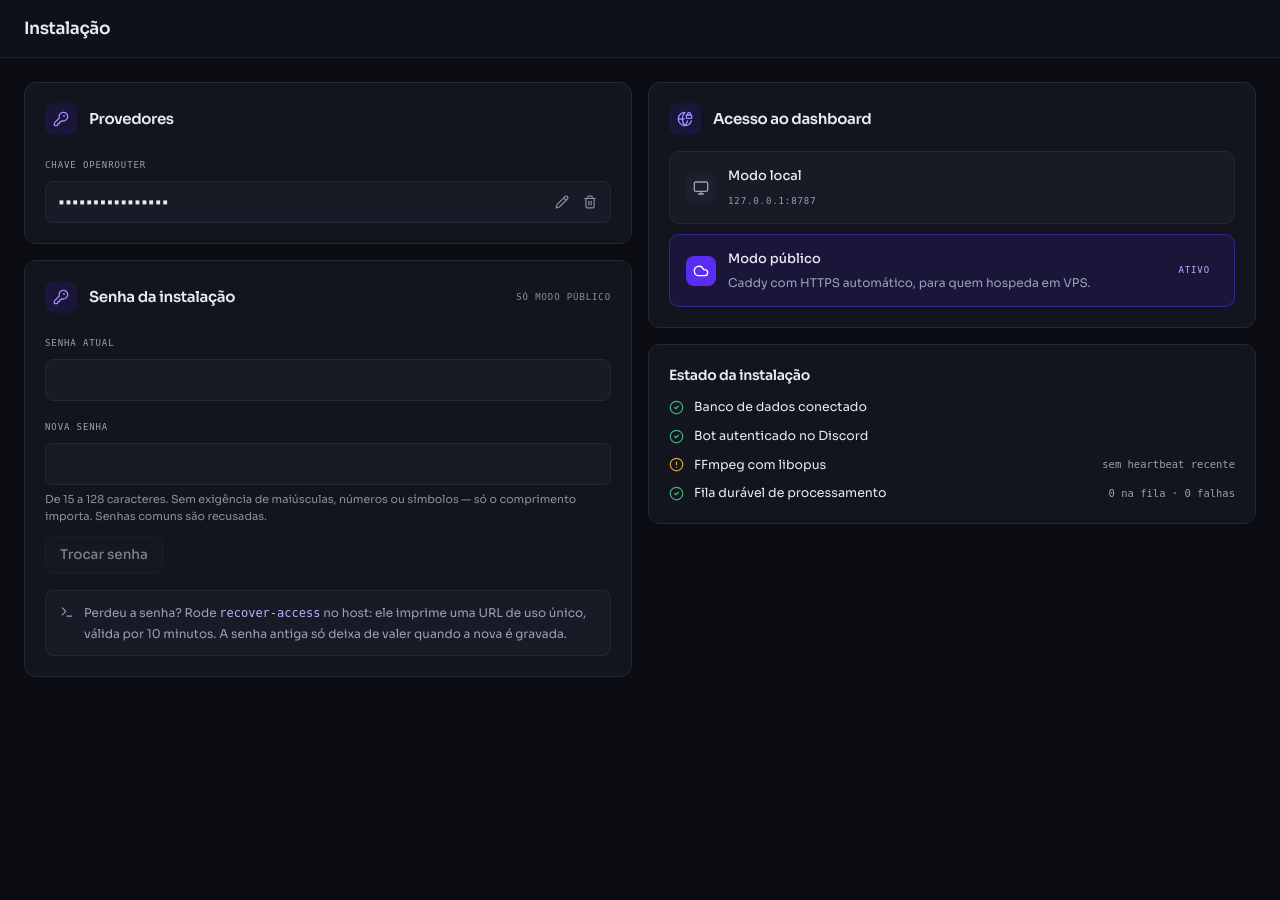
Test case: InstallationPage › changes the installation password in public mode
Expected: the header does not show "Modo público", left=0, top=0, right=1279, bottom=58
Type "senha antiga bem longa" into the password field labelled "Senha atual" at (328, 380), box left=45, top=359, right=611, bottom=401
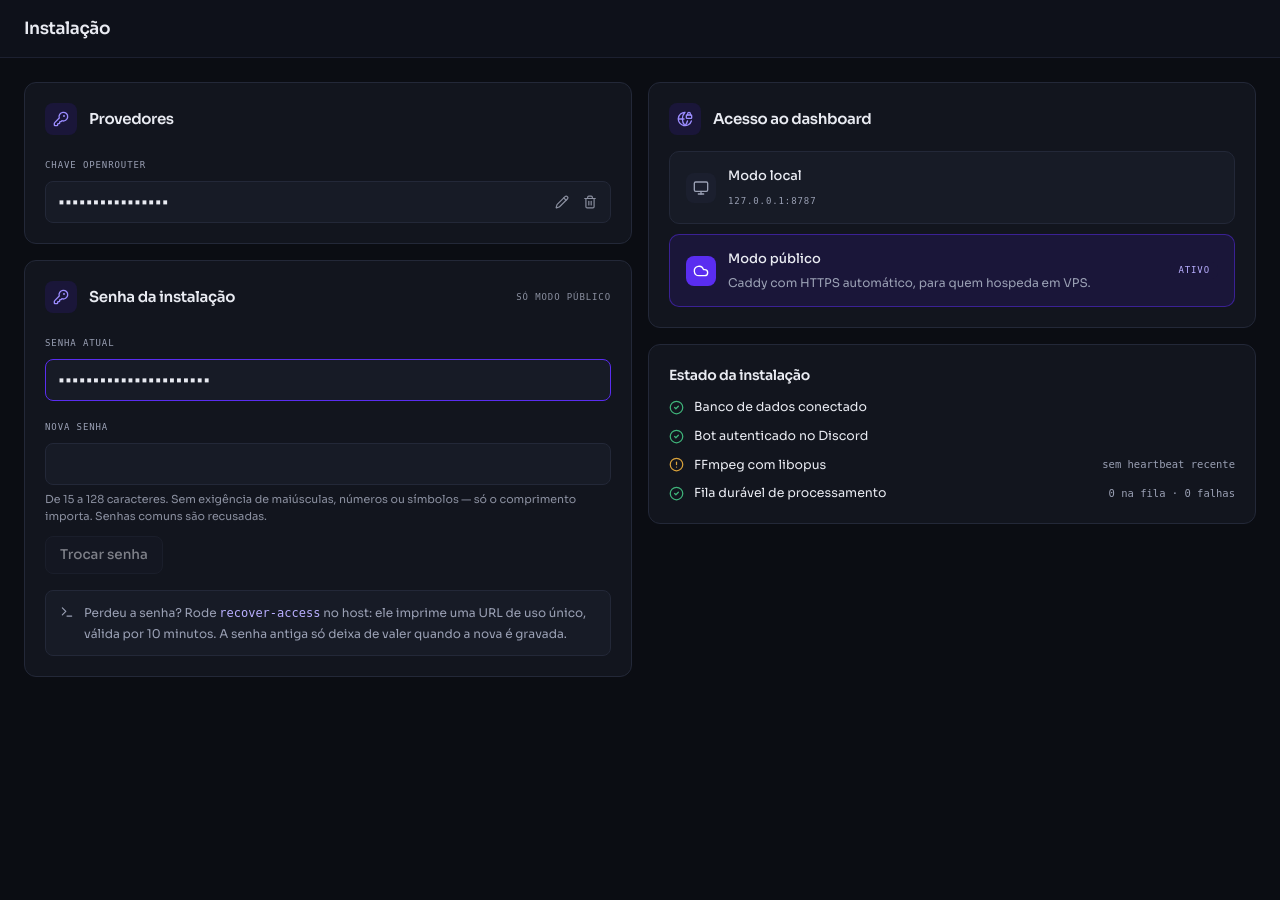
Type "senha nova ainda mais longa" into the password field labelled "Nova senha" at (328, 464), box left=45, top=443, right=611, bottom=485
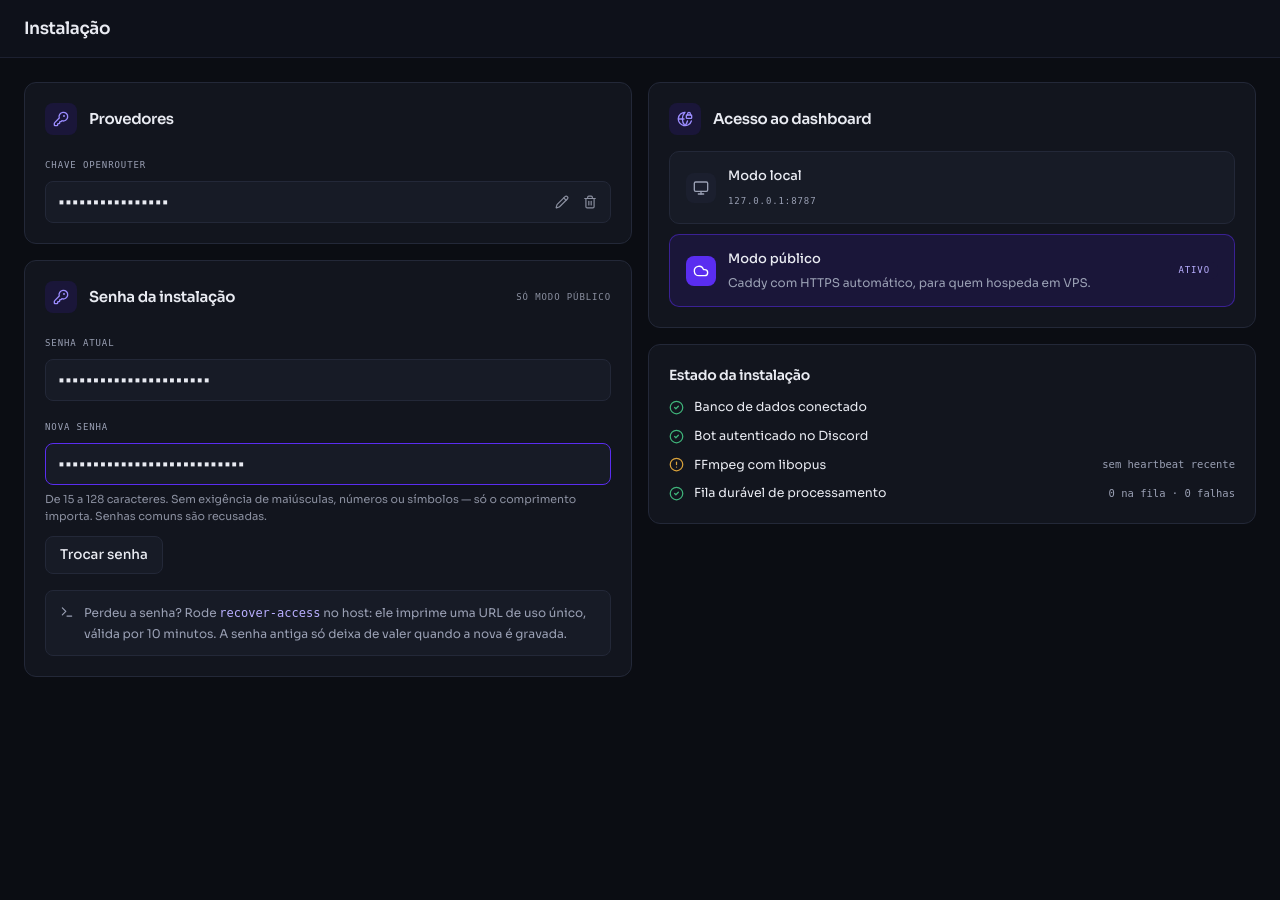
Click the button "Trocar senha" at (104, 555), box left=45, top=536, right=163, bottom=574
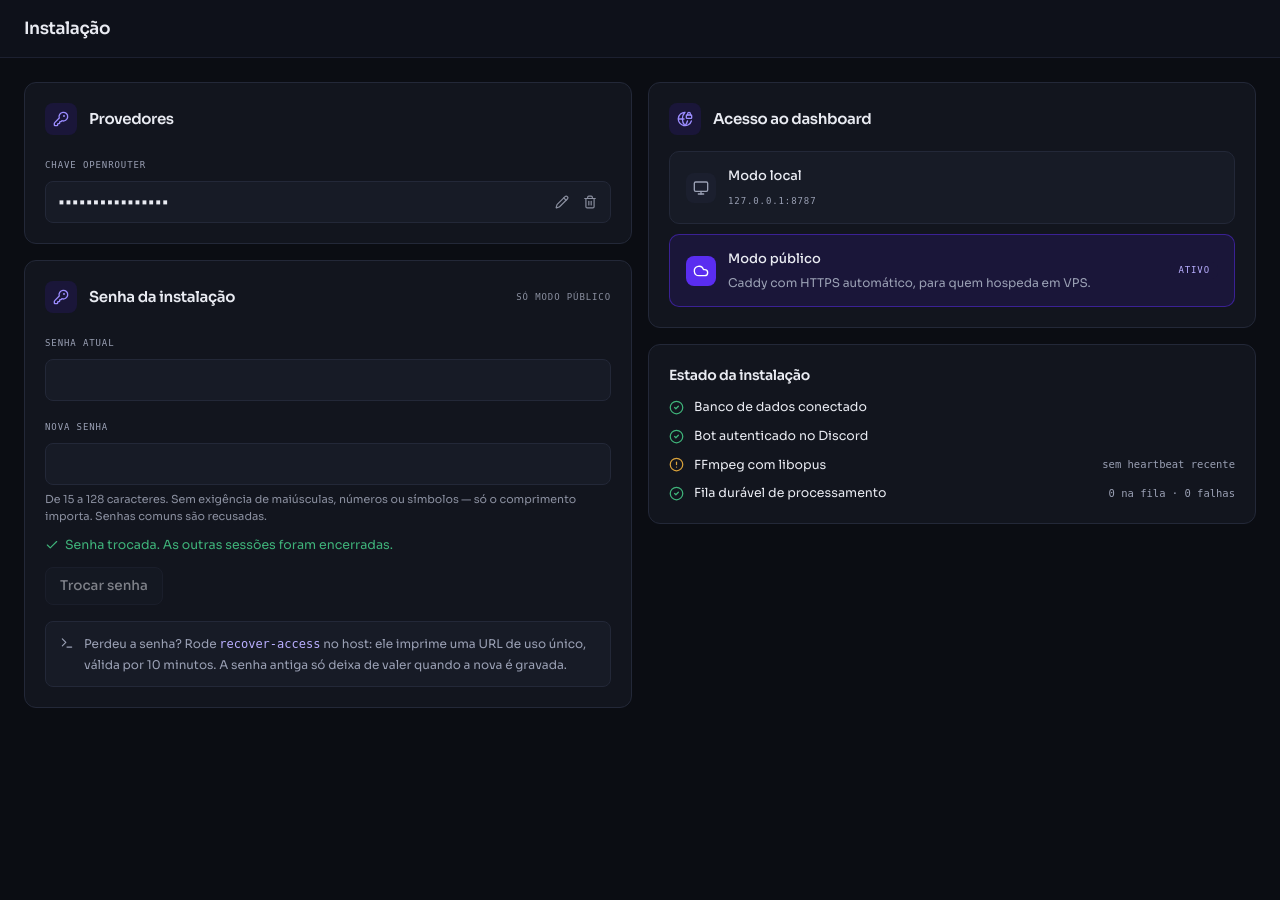
Expected: the text "Senha trocada. As outras sessões foram encerradas." is shown, left=45, top=537, right=393, bottom=553
